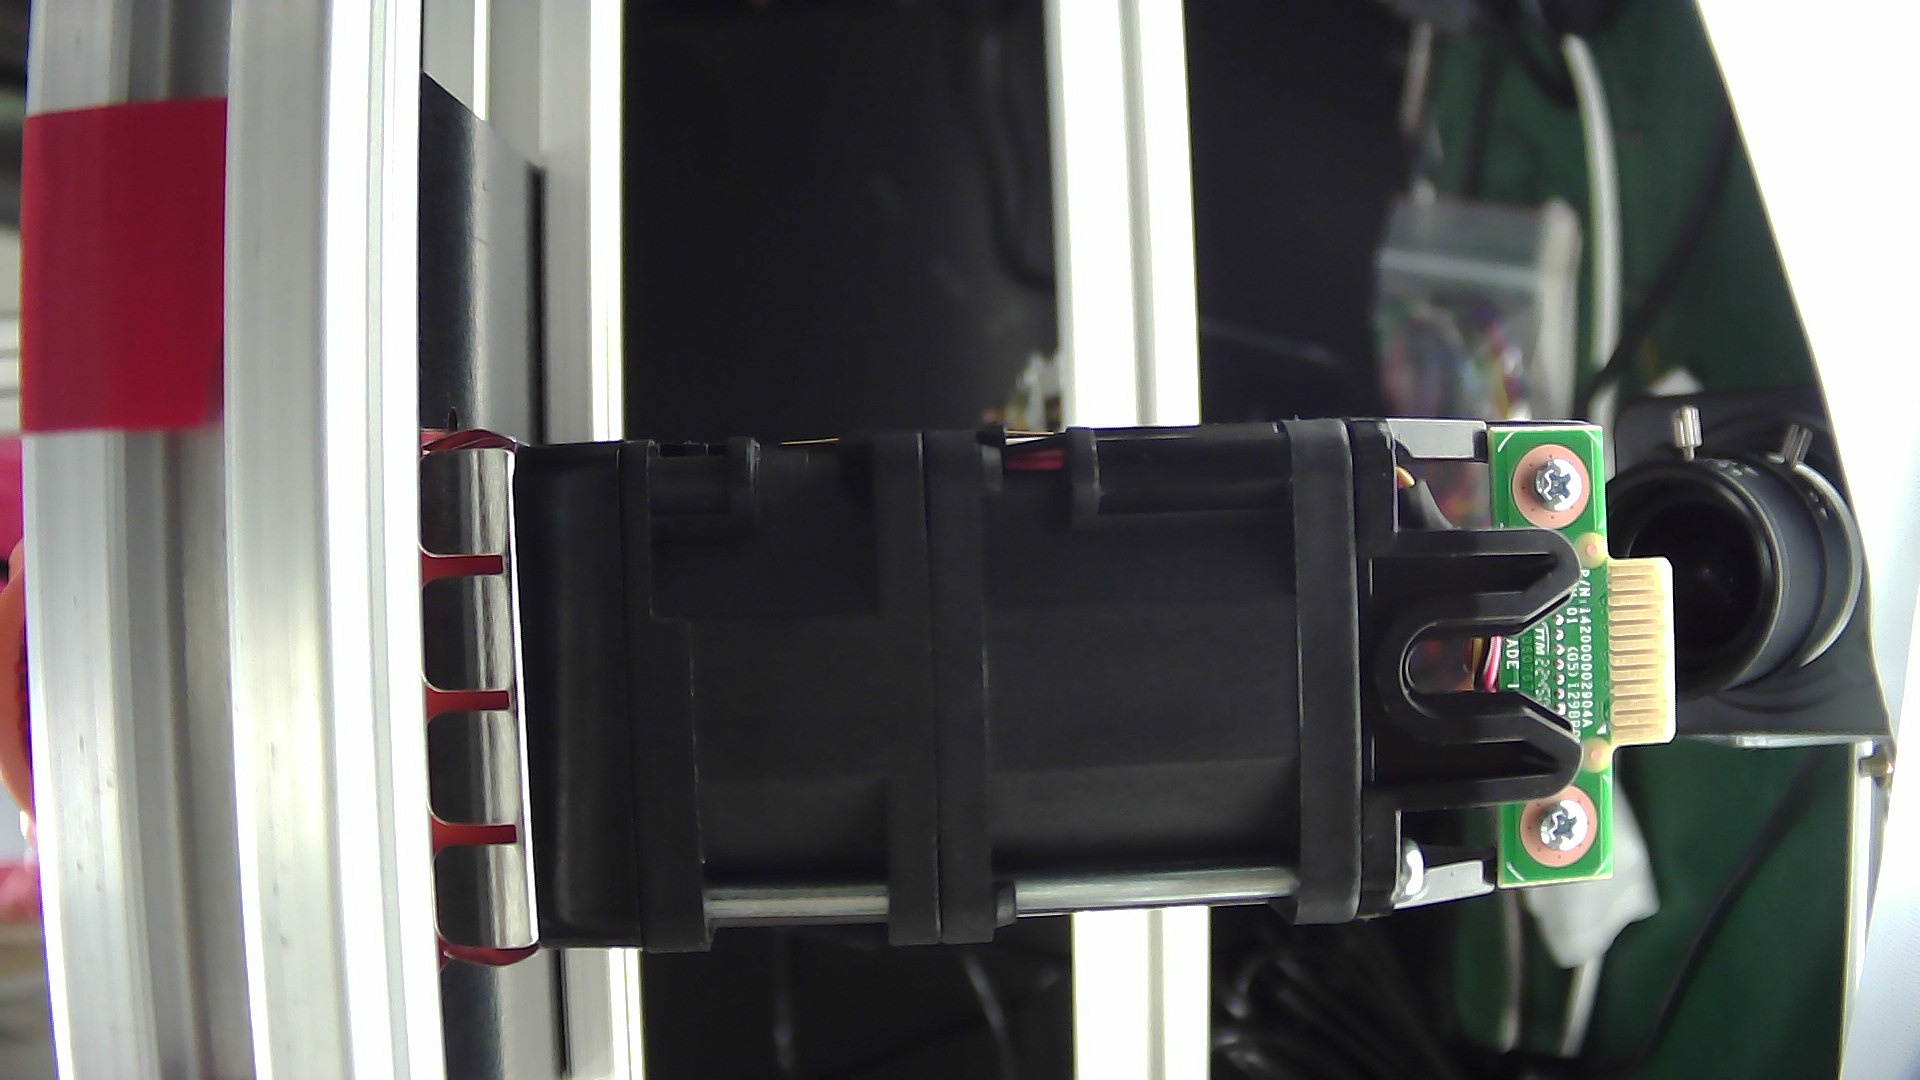5_0: (386, 367, 1697, 997)
